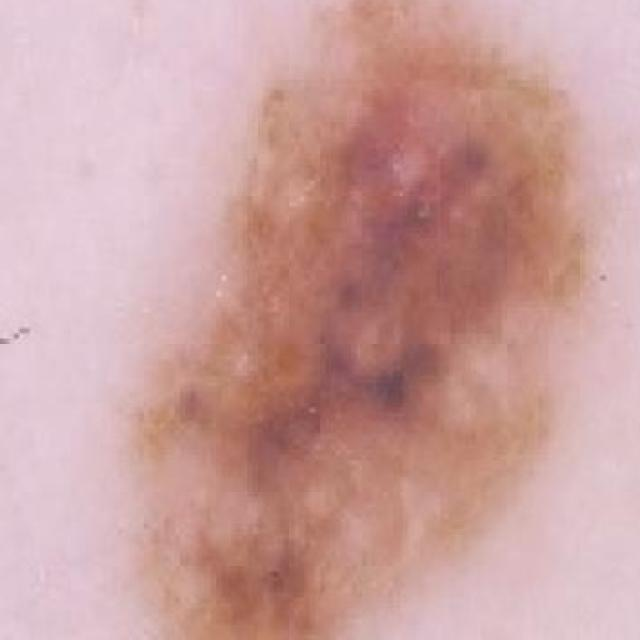MEL: (152, 0, 592, 640)
